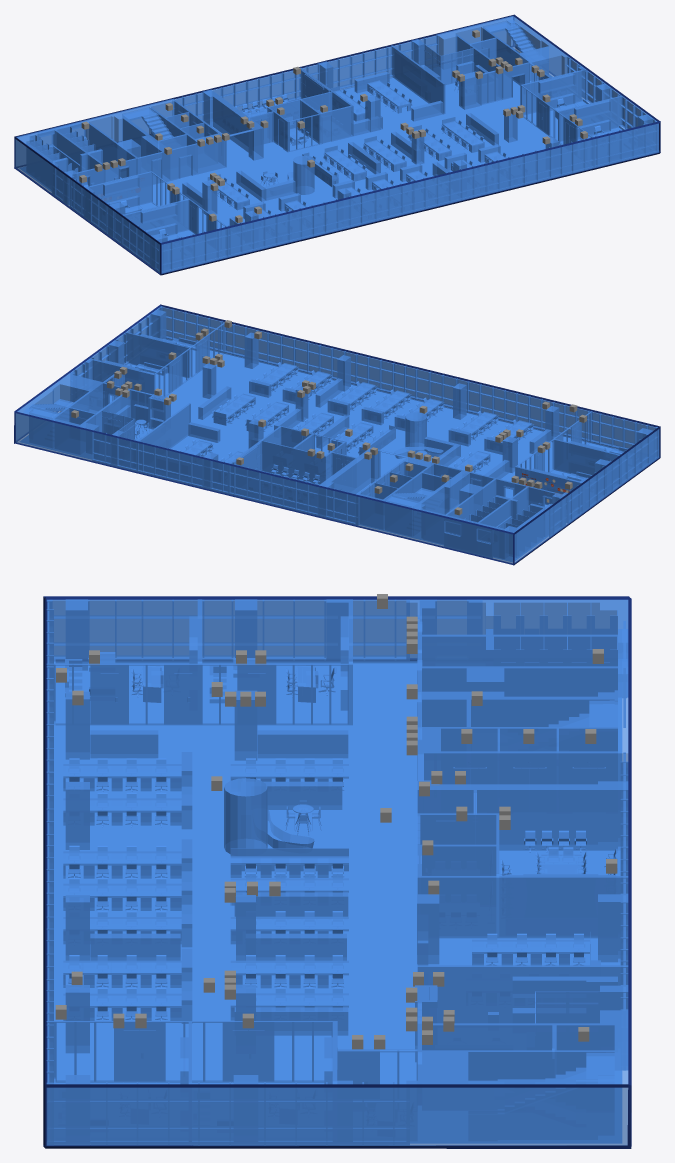
3 views of the same model, one above another, from view 1: azimuth 30°, elevation 25°; view 2: azimuth 150°, elevation 25°; view 3: azimuth 270°, elevation 25° (orthographic). The views are drawn at different scales.
Visible parts, largest first — view 1: qiangti1, Rectangledimian, guangdai1; view 2: qiangti1, Rectangledimian, guangdai1; view 3: qiangti1, Rectangledimian, guangdai1.
Part boxes in pixels (x1,y1,x2,y2): qiangti1: (15,16,659,273); Rectangledimian: (19,48,624,237); guangdai1: (14,14,660,275); qiangti1: (15,306,659,563); Rectangledimian: (20,339,616,561); guangdai1: (14,304,660,565); qiangti1: (46,599,628,1145); Rectangledimian: (54,661,621,1143); guangdai1: (43,596,631,1148).
Size of the model in its own units: 51.92 by 26.41 by 3.55.
Materials: 5 (1 with a texture image).
